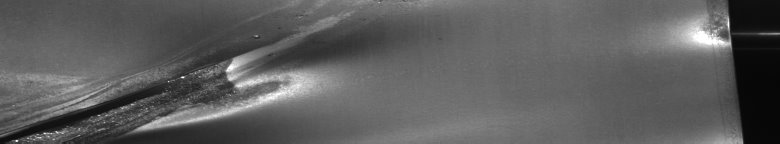ke: (4, 28, 318, 136)
